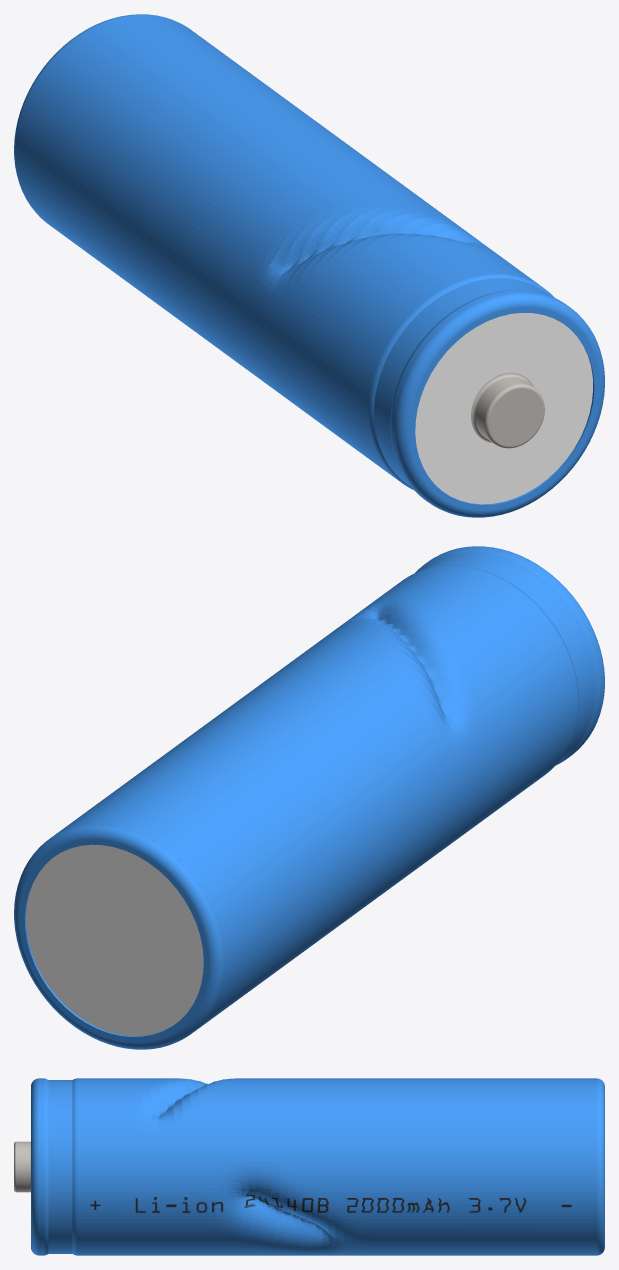
Rendered from defect_9.glb.
The picture shows the model from 3 angles, top to bottom: view 1: azimuth 30°, elevation 25°; view 2: azimuth 150°, elevation 25°; view 3: azimuth 270°, elevation 25°; orthographic projection. The views are drawn at different scales.
Parts seen in each view (by area): view 1: Cylinder, Cell_Top; view 2: Cylinder, Cell_bottom, Cell_Top; view 3: Cylinder, Cell_Top, Cell_bottom.
Boxes of the visible parts, bbox=[...] form: Cylinder: bbox=[15, 15, 550, 480]; Cell_Top: bbox=[368, 273, 604, 517]; Cylinder: bbox=[41, 566, 577, 1031]; Cell_bottom: bbox=[14, 824, 224, 1049]; Cell_Top: bbox=[415, 546, 604, 765]; Cylinder: bbox=[77, 1078, 596, 1255]; Cell_Top: bbox=[14, 1078, 77, 1255]; Cell_bottom: bbox=[596, 1078, 604, 1255].
Bounding box in the file's own units: 0.021 × 0.021 × 0.07.
10 materials, 1 textured.
